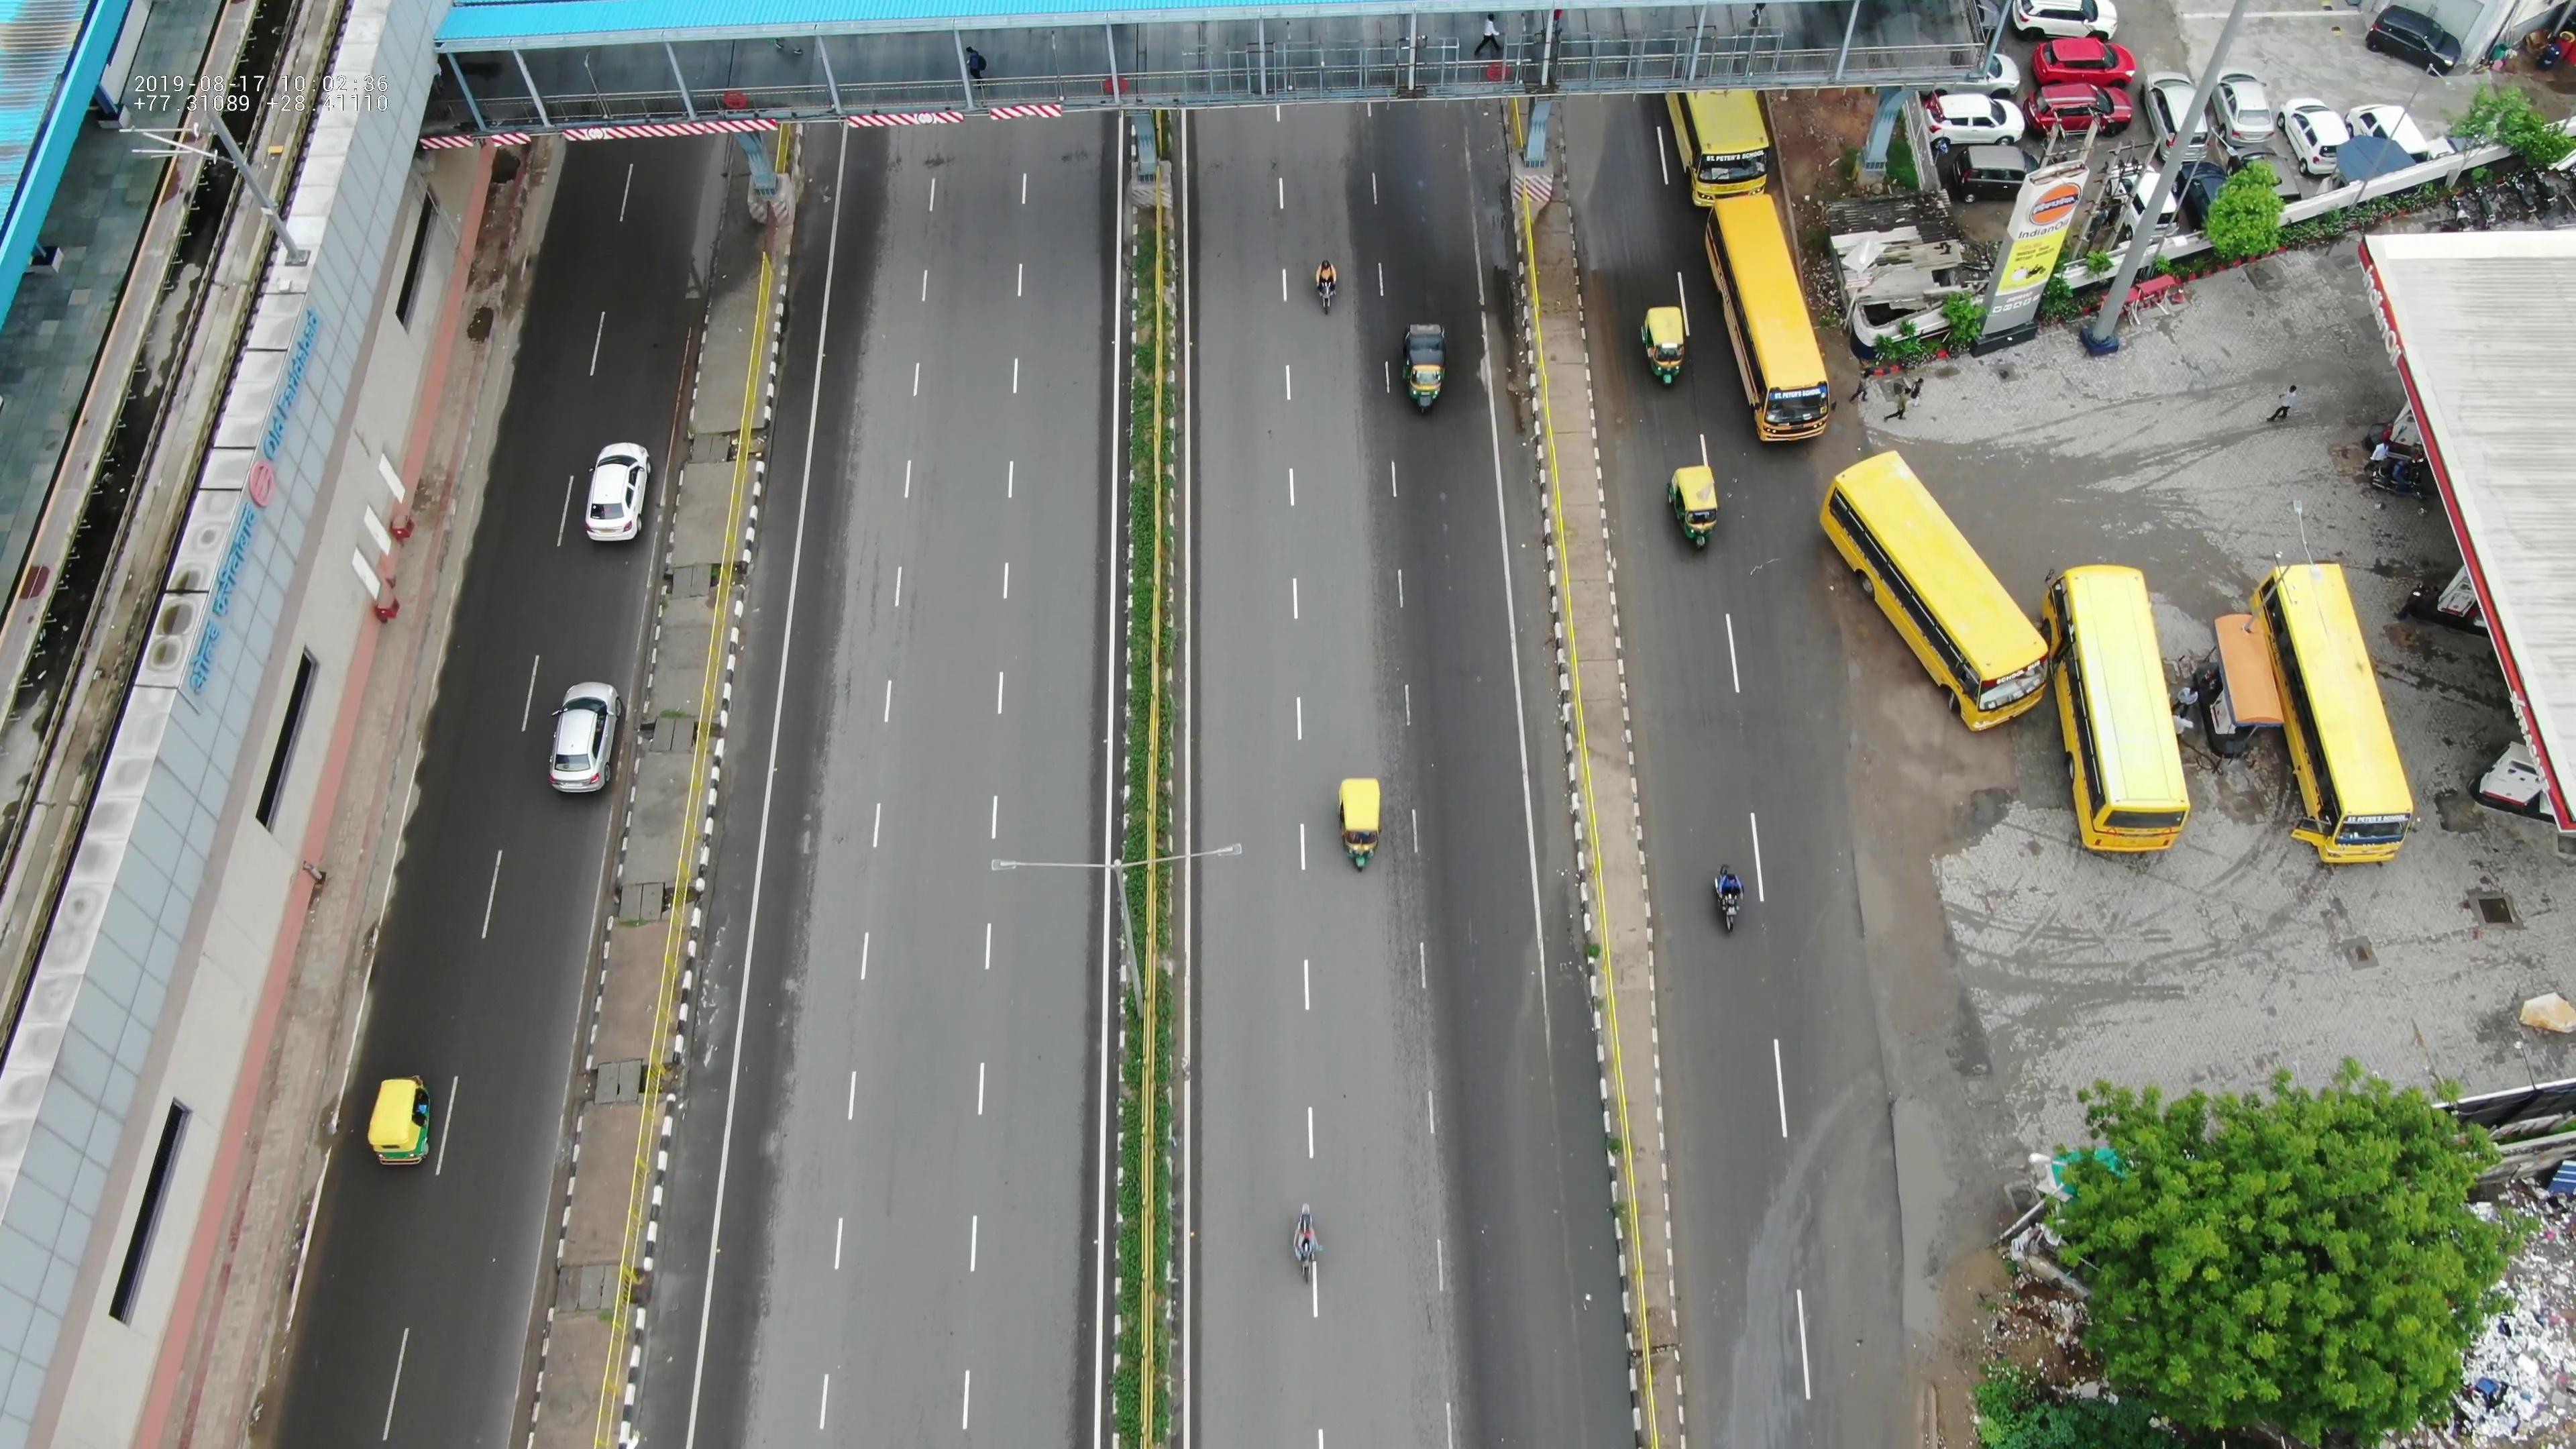Waterlogging: (1468, 180, 1530, 439)
